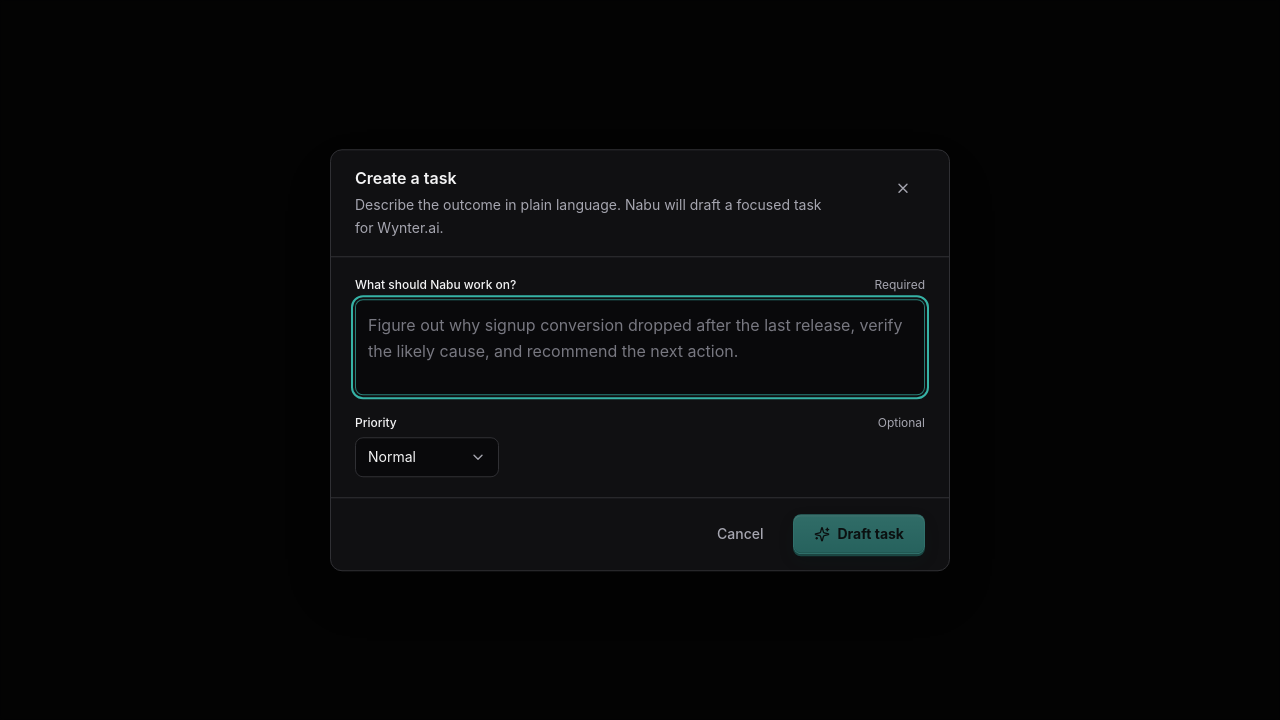
Test: CreateTaskDialog › turns plain-language intent into an editable task draft
Replace the text in the text box labelled "What should Nabu work on? Required" with "Find out why signup conversion dropped." at (640,347), box left=355, top=299, right=925, bottom=395
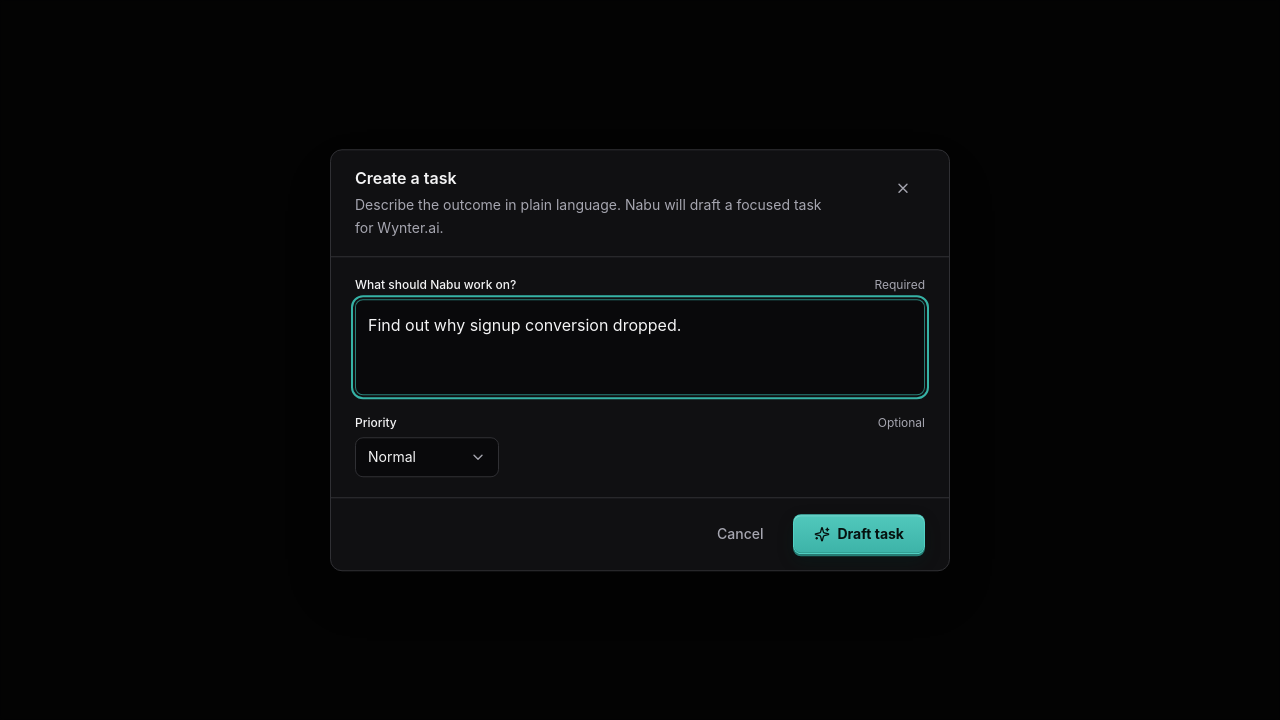
Click the button "Draft task" at (859,534), box left=792, top=514, right=925, bottom=554
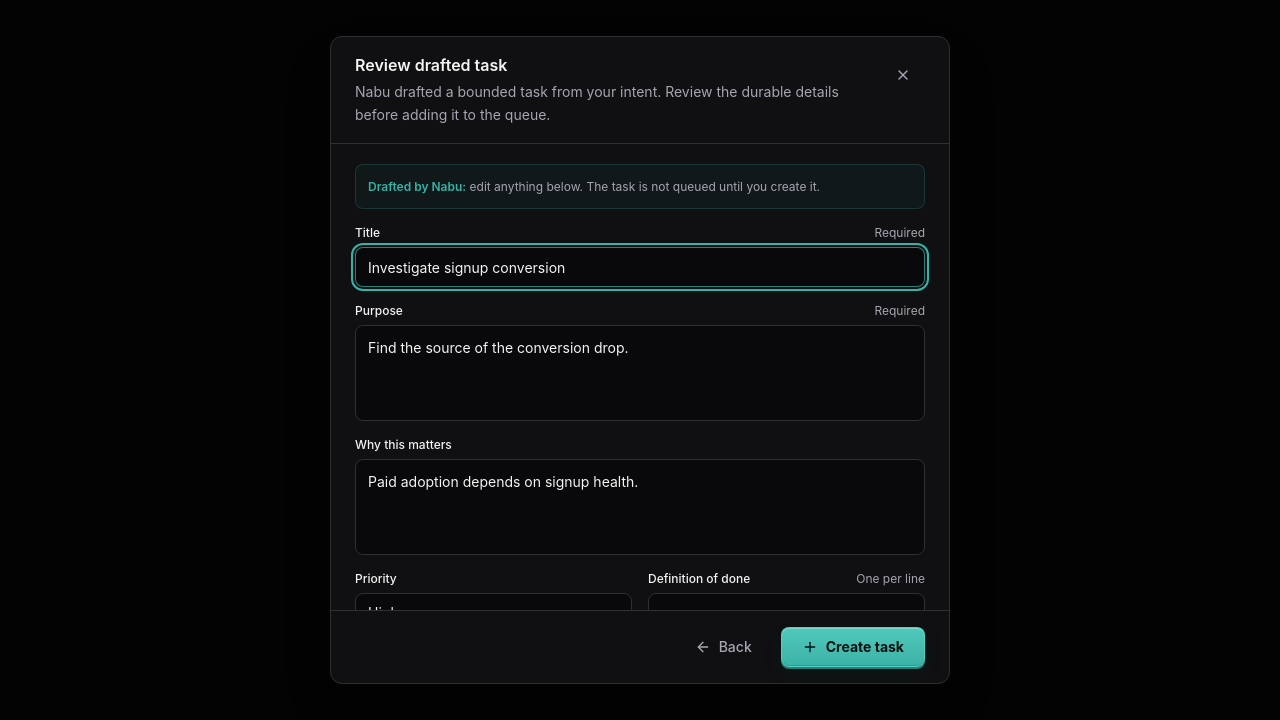
Now the field showing "Investigate signup conversion" is shown, box left=355, top=247, right=925, bottom=287
Now the heading "Review drafted task" is shown, box left=355, top=55, right=507, bottom=75
